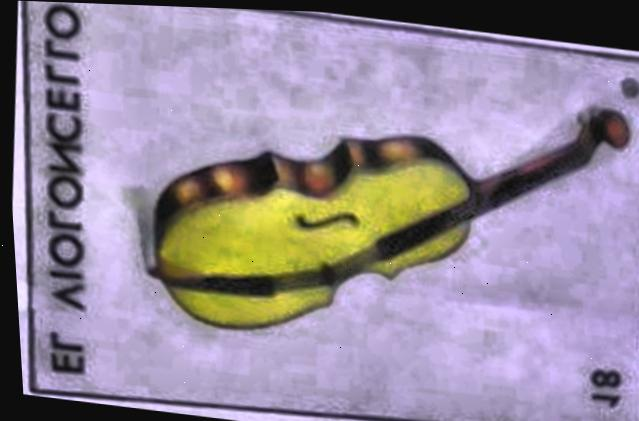El Violoncello: (1, 0, 639, 421)
